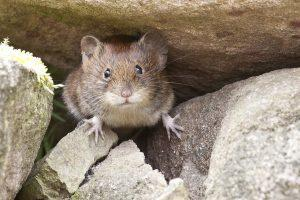rat: (62, 29, 184, 146)
